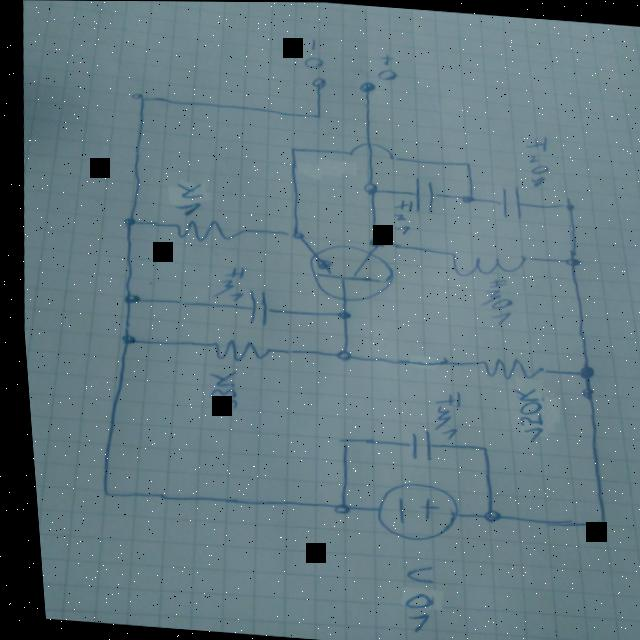capacitor: (399, 426, 429, 465), (406, 174, 435, 214), (494, 182, 521, 223), (241, 287, 268, 327)
crossover: (340, 138, 397, 164)
inductor: (435, 245, 527, 281)
junction: (323, 344, 350, 364), (470, 505, 495, 526), (357, 232, 384, 251), (568, 360, 593, 380), (109, 330, 135, 349), (114, 289, 138, 309), (319, 498, 345, 516), (353, 179, 378, 197), (327, 433, 351, 450), (579, 511, 601, 528), (280, 141, 302, 158), (282, 225, 304, 242), (328, 306, 350, 323), (452, 190, 476, 205), (88, 486, 110, 502), (302, 107, 323, 123), (466, 441, 488, 456), (113, 214, 135, 229), (127, 92, 149, 107), (450, 156, 472, 171), (558, 253, 579, 268), (557, 201, 574, 214)
resistor: (164, 215, 247, 246), (198, 334, 273, 364), (468, 355, 540, 383)
source: (363, 477, 455, 545)
terminal: (353, 76, 375, 96), (306, 73, 326, 91)
text: (387, 561, 431, 634), (499, 384, 540, 442), (422, 387, 459, 442), (472, 276, 512, 326), (517, 133, 550, 189), (198, 366, 235, 412), (206, 264, 243, 303), (167, 179, 203, 219), (383, 196, 413, 236), (298, 35, 327, 71), (372, 50, 400, 84)
transistor: (297, 239, 395, 307)
